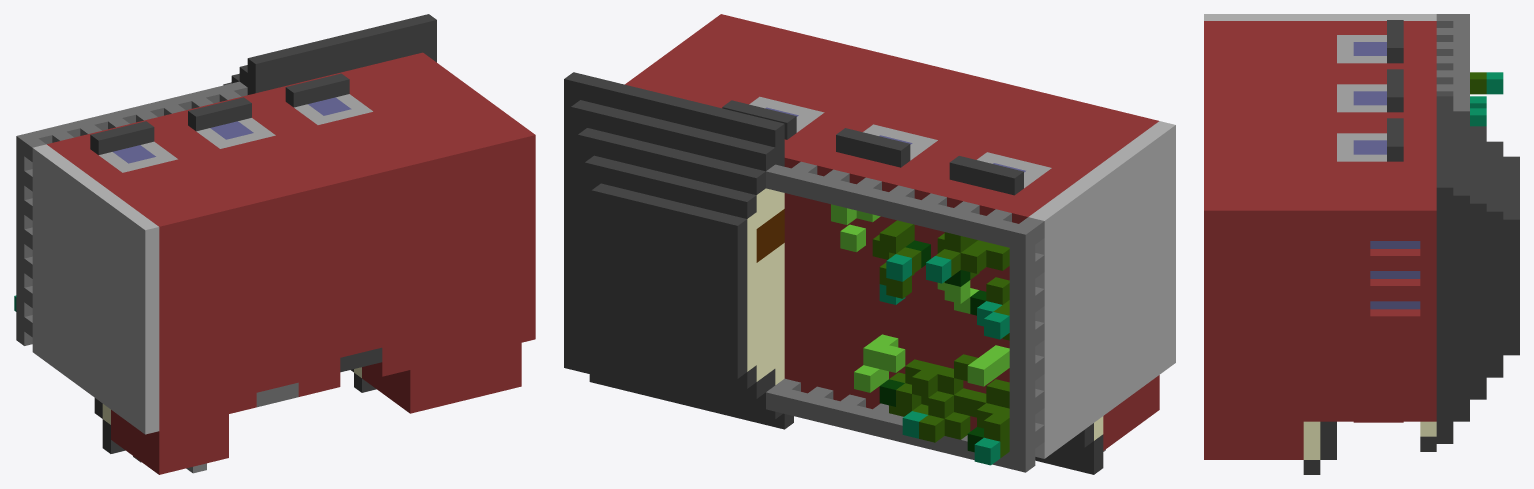
The model's file is yoshida28.fbx.
3 views of the same model, side by side, from view 1: azimuth 30°, elevation 25°; view 2: azimuth 150°, elevation 25°; view 3: azimuth 270°, elevation 25° (orthographic). The views are drawn at different scales.
Parts seen in each view (by area): view 1: Default; view 2: Default; view 3: Default.
Boxes of the visible parts, x1,y1,x2,y2 form: Default: [14, 14, 535, 474]; Default: [564, 14, 1175, 474]; Default: [1204, 14, 1519, 474].
Bounding box in the file's own units: 29 × 20 × 19.
Materials: 1 (1 with a texture image).
